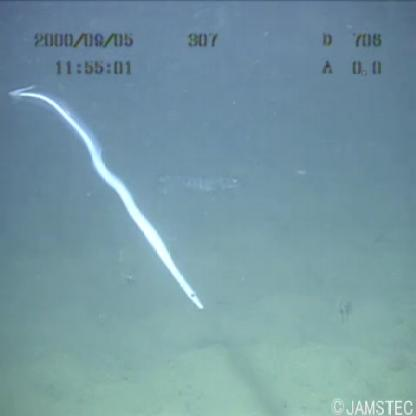Bio: (4, 78, 209, 320)
